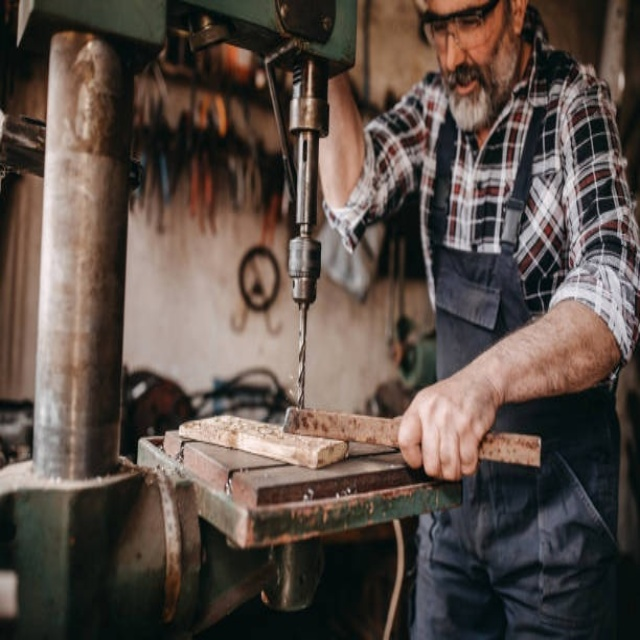Gafas: (419, 0, 504, 50)
Sin_guantes: (396, 369, 498, 485)
Sin_mascara: (440, 69, 486, 121)
